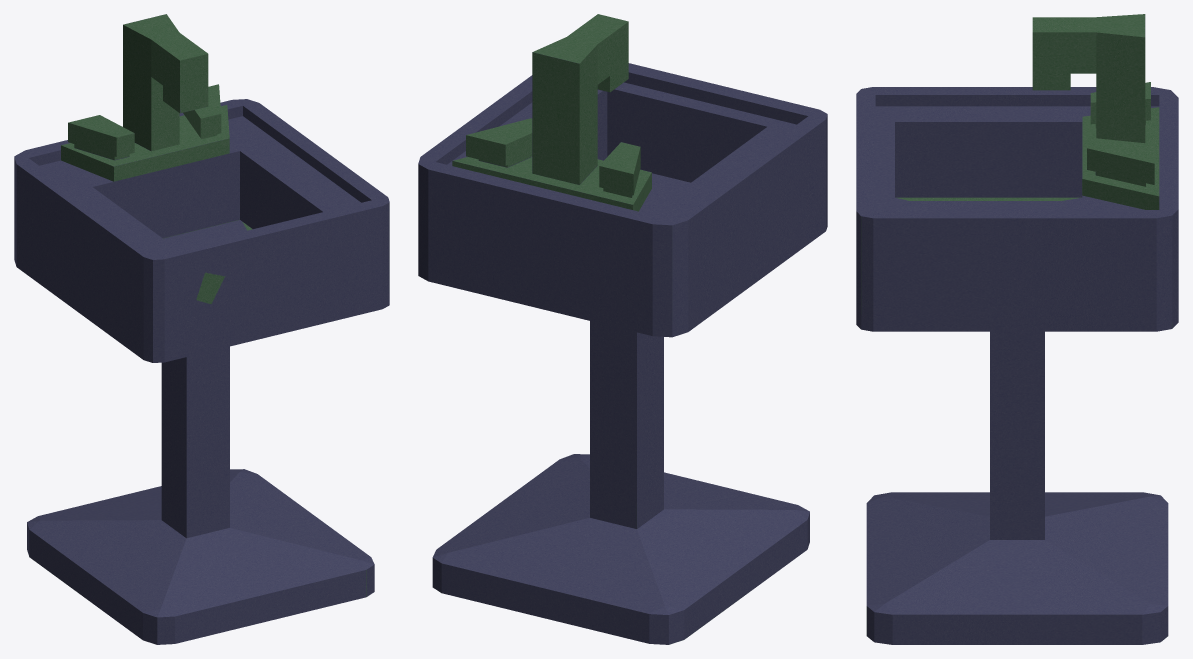
Rendered from HDSink.fbx.
The picture shows the model from 3 angles, left to right: view 1: azimuth 30°, elevation 25°; view 2: azimuth 150°, elevation 25°; view 3: azimuth 270°, elevation 25°; orthographic projection. The views are drawn at different scales.
Visible parts, largest first — view 1: Sink.001; view 2: Sink.001; view 3: Sink.001.
Boxes of the visible parts, x1,y1,x2,y2 form: Sink.001: [14, 14, 389, 644]; Sink.001: [418, 14, 827, 644]; Sink.001: [856, 14, 1178, 644].
Size of the model in its own units: 58.35 by 116 by 60.53.
